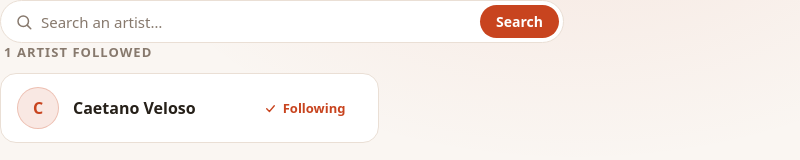
offers the full search when no followed artist matches
expect the text "Caetano Veloso" is shown: met, box 73,97 -> 196,119
In the field with placeholder "Search an artist…": (257, 22) 41,6 -> 472,38, type "zzzz"
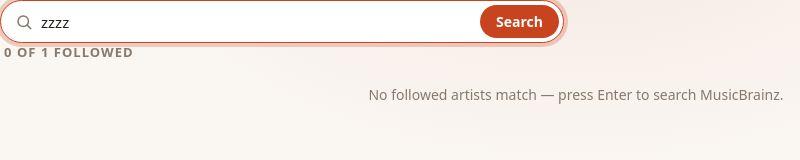
expect the link "Caetano Veloso" is gone: met
expect the text "No followed artists match — press Enter to search MusicBrainz." is shown: met, box 368,85 -> 784,104
